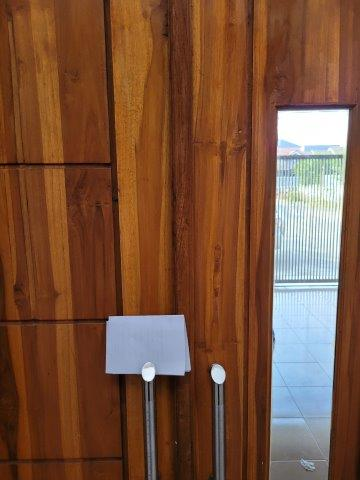kertas: (105, 315, 190, 376)
